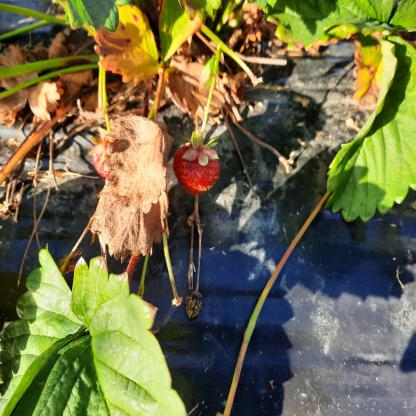ripe: (176, 143, 221, 192)
